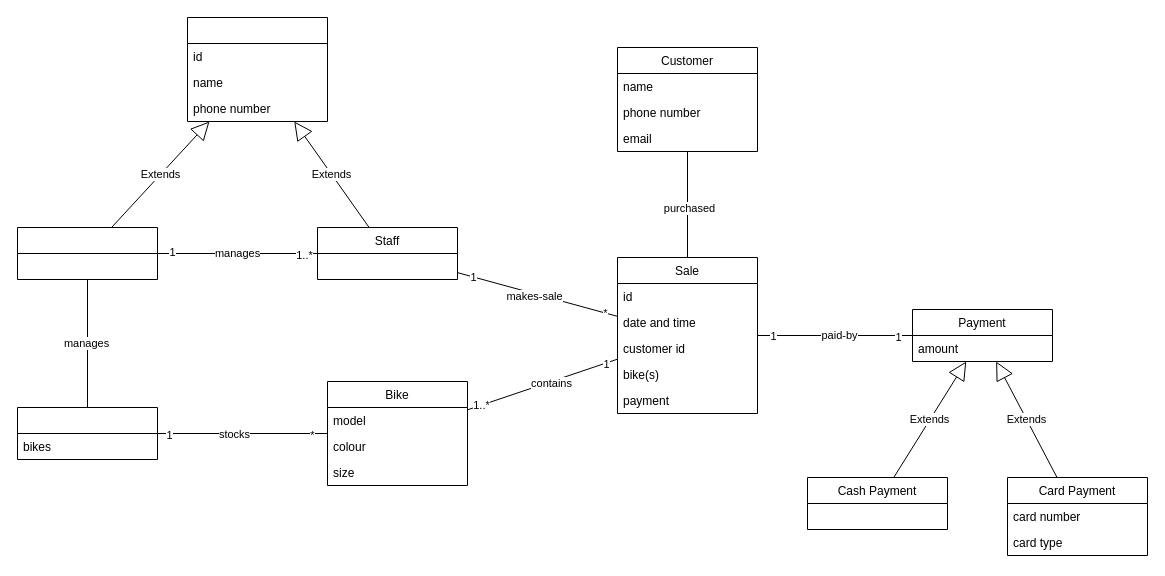
Some shapes in this 1165 by 576 pixel diagram are drawn without their labels. Each missing label, with the box of its shape:
Employee: (186, 16, 328, 122)
Manager: (16, 226, 158, 280)
Stock: (16, 406, 158, 460)
